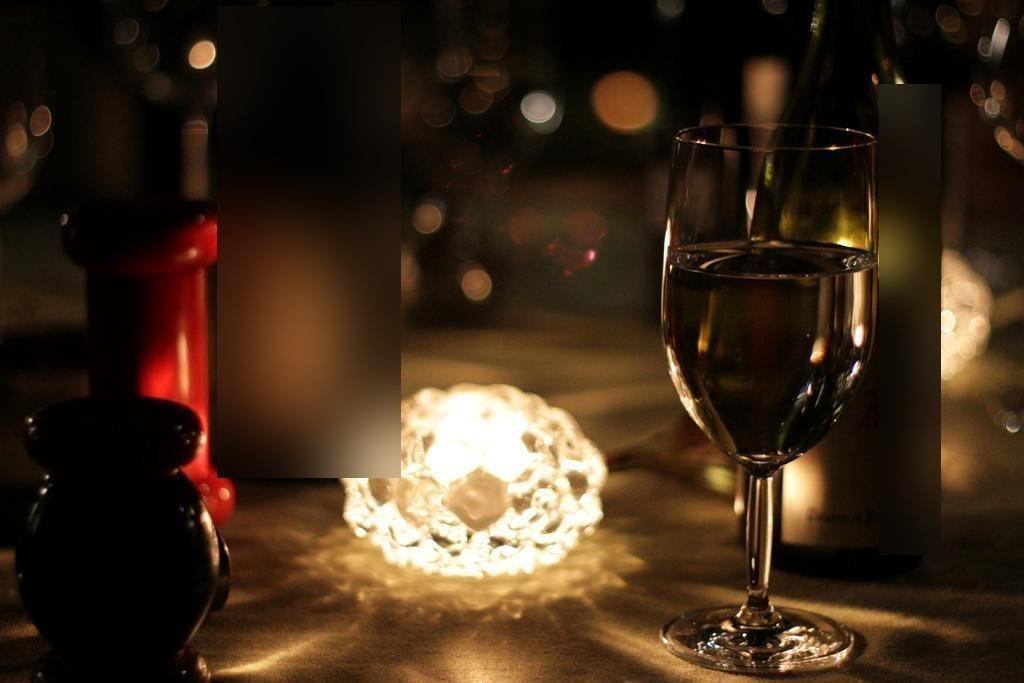glass-wine: (661, 123, 873, 672)
